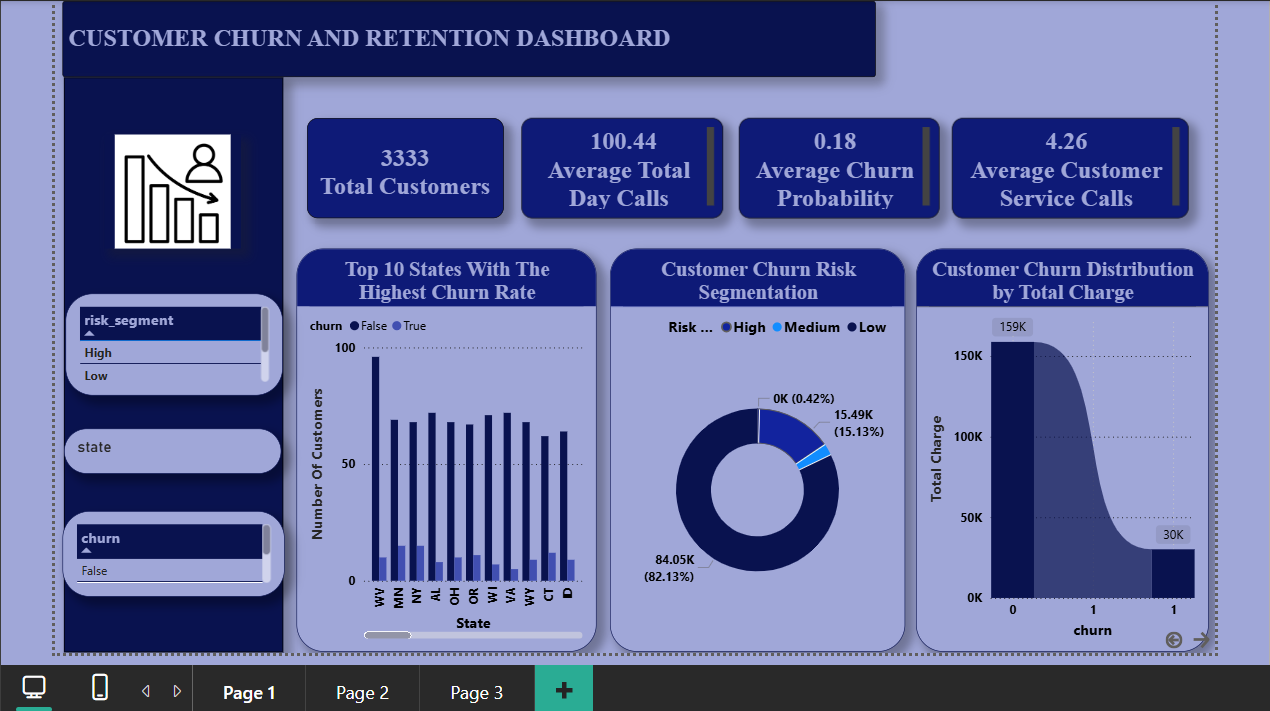

The dashboard page shown, as its layout file describes it:
{"tool":"powerbi","page":{"name":"Page 1","canvas":[1280,720],"ordinal":0},"visuals":[{"type":"textbox","box":[8.8,0,898.2,84.2],"z":0},{"type":"textbox","box":[9.4,85,241.9,635],"z":1000},{"type":"textbox","box":[278.9,129.8,217.5,110.5],"z":2000},{"type":"textbox","box":[515.8,129.8,222.8,110.5],"z":3000},{"type":"textbox","box":[756.1,129.8,221.1,110.5],"z":4000},{"type":"textbox","box":[991.2,129.8,261.4,110.5],"z":5000},{"type":"clusteredColumnChart","title":"Top 10 States With The Highest Churn Rate","fields":{"Category":["churn_by_state.state"],"Y":["Sum(churn_by_state.count)"],"Series":["churn_by_state.churn"]},"box":[266.7,273.3,331.3,445.6],"z":6000},{"type":"donutChart","title":"Customer Churn Risk Segmentation","fields":{"Category":["churn_final_with_prediction.risk_segment"],"Y":["Sum(churn_final_with_prediction.churn)","Sum(churn_final_with_prediction.total_day_charge)"]},"box":[612.9,273.3,326.3,445.6],"z":7000},{"type":"columnChart","title":"Customer Churn Distribution by Total Charge","fields":{"Y":["Sum(churn_final_with_prediction.total_charge)"],"Category":["churn_final_with_prediction.churn"]},"box":[950.8,273.3,323,445.6],"z":8000},{"type":"image","box":[54.7,147.4,150.7,125.9],"z":9000},{"type":"tableEx","fields":{"Values":["churn_final_with_prediction.risk_segment"]},"box":[11.6,323,240.2,112.6],"z":10000},{"type":"clusteredColumnChart","fields":{"Category":["churn_final_with_prediction.state"]},"box":[9.9,472.1,240.2,49.7],"z":11000},{"type":"actionButton","box":[1252.3,692.4,28.2,26.5],"z":11001},{"type":"actionButton","box":[1222.5,692.4,51.4,26.5],"z":11002},{"type":"tableEx","fields":{"Values":["churn_by_state.churn"]},"box":[8.3,563.2,245.2,94.4],"z":11003}]}

Visuals, with their boxes on the page's 1280x720 design canvas (x1, y1, x2, y2). These are canvas units, not pixel positions in the 1270x711 screenshot, which may show the page scaled, cropped or inside an application window:
textbox: 9:0:907:84
textbox: 9:85:251:720
textbox: 279:130:496:240
textbox: 516:130:739:240
textbox: 756:130:977:240
textbox: 991:130:1253:240
"Top 10 States With The Highest Churn Rate" clusteredColumnChart: 267:273:598:719
"Customer Churn Risk Segmentation" donutChart: 613:273:939:719
"Customer Churn Distribution by Total Charge" columnChart: 951:273:1274:719
image: 55:147:205:273
tableEx - churn_final_with_prediction.risk_segment: 12:323:252:436
clusteredColumnChart - churn_final_with_prediction.state: 10:472:250:522
actionButton: 1252:692:1280:719
actionButton: 1222:692:1274:719
tableEx - churn_by_state.churn: 8:563:254:658
